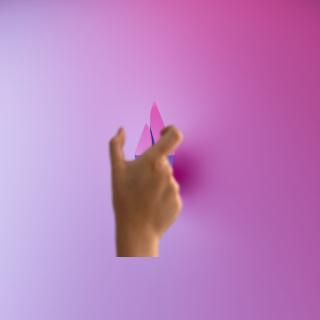Irritated: (104, 113, 197, 256)
